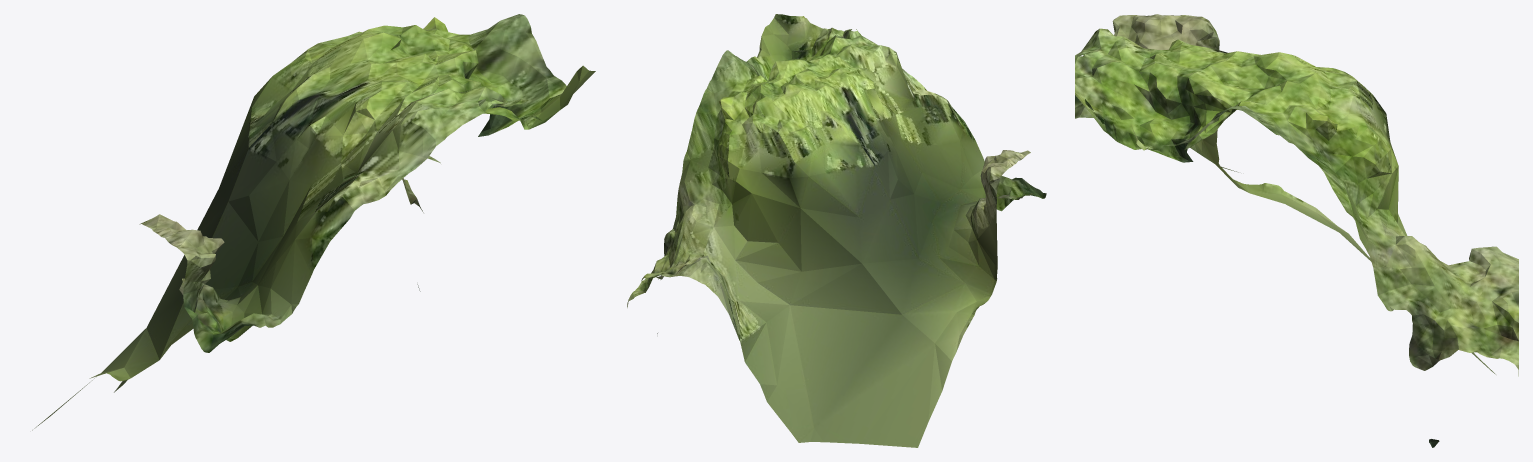
The picture shows the model from 3 angles, left to right: view 1: azimuth 30°, elevation 25°; view 2: azimuth 150°, elevation 25°; view 3: azimuth 270°, elevation 25°; orthographic projection. The views are drawn at different scales.
Size of the model in its own units: 26.11 by 26.11 by 26.11.
Materials: 4 (4 with a texture image).
